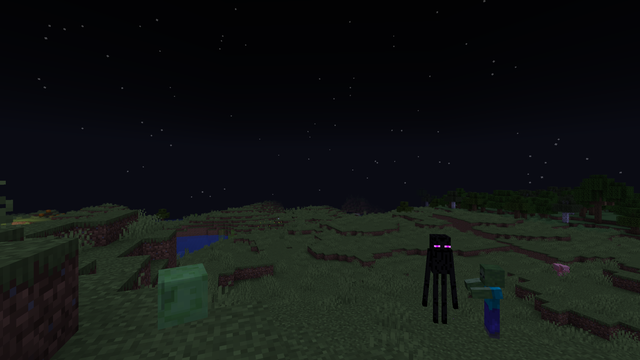cochons: (551, 262, 569, 276)
endermens: (425, 230, 453, 328)
slimes: (151, 261, 206, 328)
zombies: (475, 264, 508, 341)
